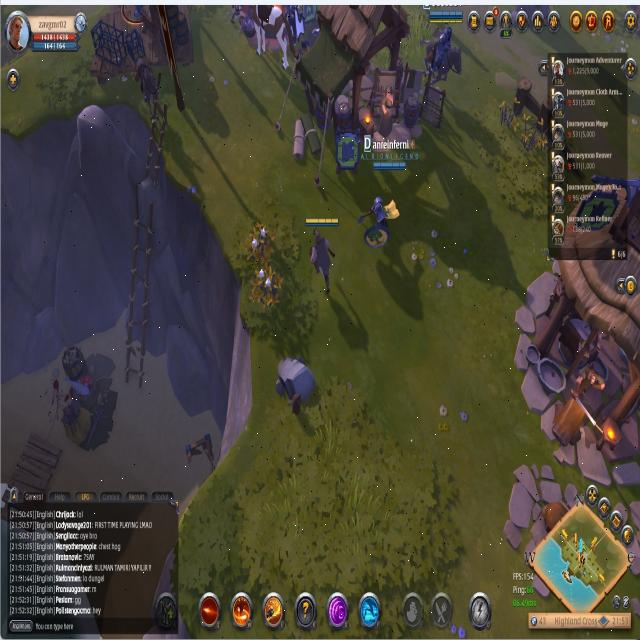stone: (273, 354, 319, 411)
